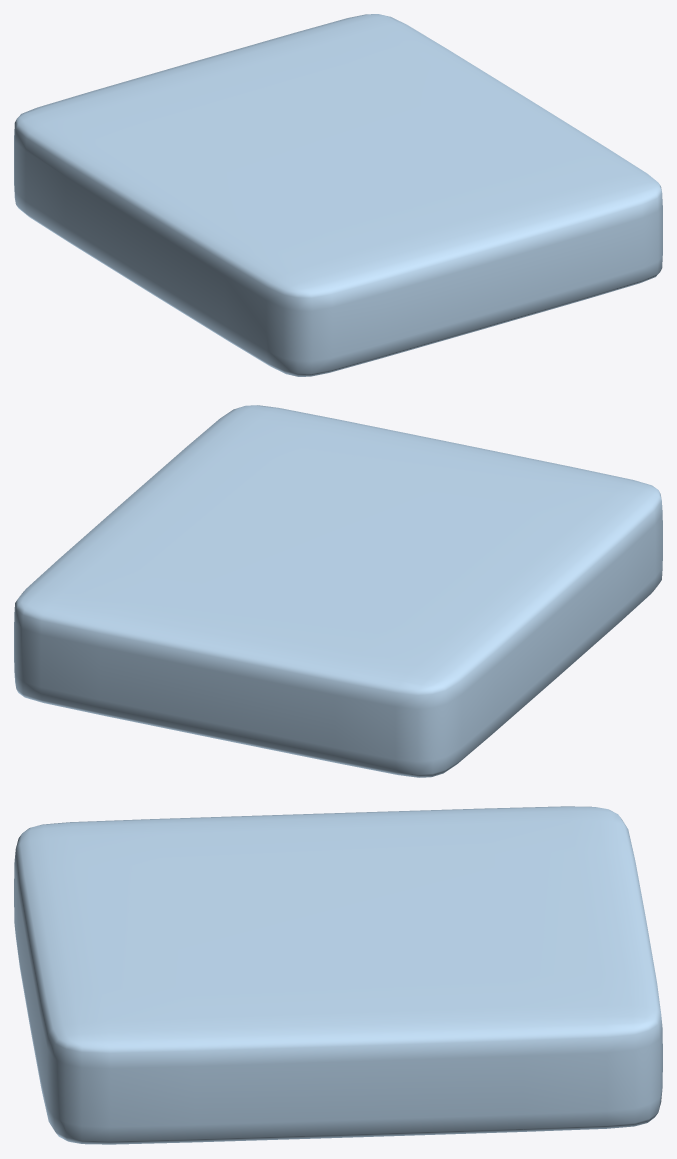
The model's file is PROP_Sandbox_v1.glb.
3 views of the same model, one above another, from view 1: azimuth 30°, elevation 25°; view 2: azimuth 150°, elevation 25°; view 3: azimuth 270°, elevation 25° (orthographic). The views are drawn at different scales.
Parts seen in each view (by area): view 1: PROP_Sandbox_v1; view 2: PROP_Sandbox_v1; view 3: PROP_Sandbox_v1.
Boxes of the visible parts, bbox=[...] form: PROP_Sandbox_v1: bbox=[14, 14, 662, 376]; PROP_Sandbox_v1: bbox=[14, 405, 662, 777]; PROP_Sandbox_v1: bbox=[14, 806, 662, 1144].
Size of the model in its own units: 1.2 by 0.2508 by 1.34.
